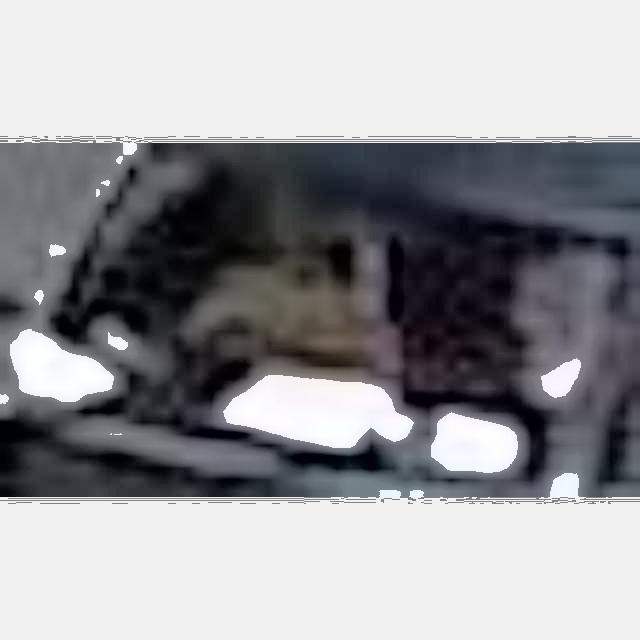tidak-pakai: (171, 200, 434, 429)
